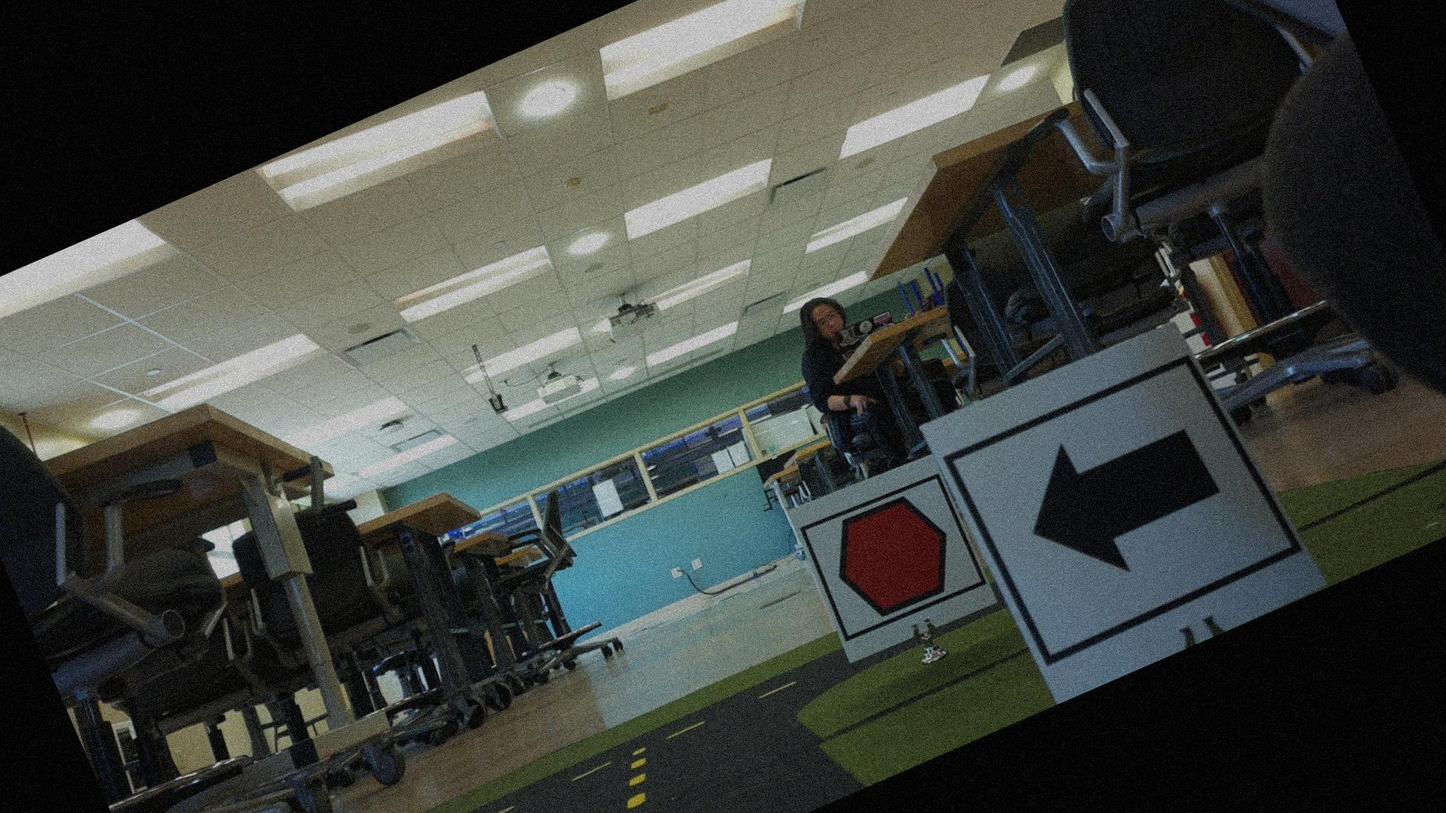stop: (799, 473, 981, 640)
turnright: (953, 355, 1280, 662)
yellowline: (566, 755, 687, 812)
